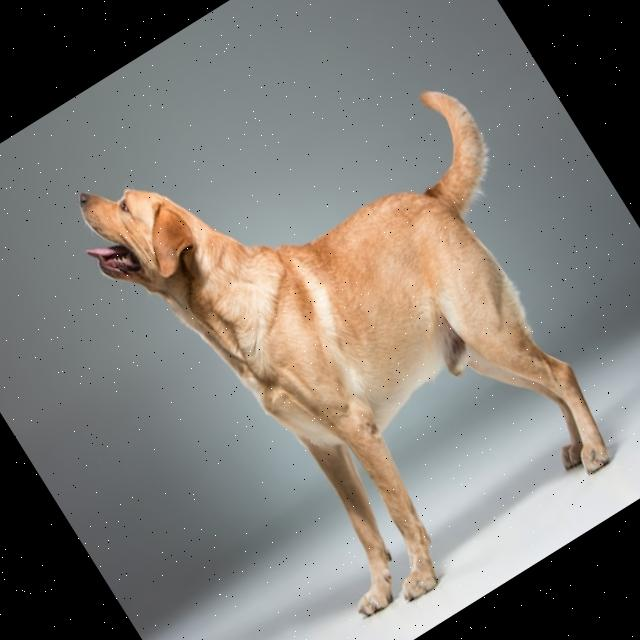Dog: (58, 0, 640, 640)
